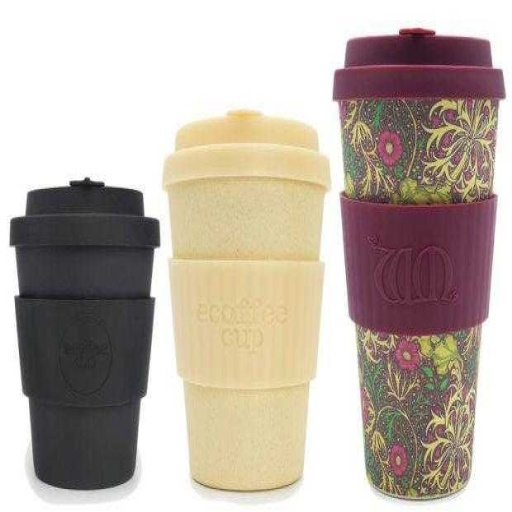cup: (331, 27, 506, 500), (161, 109, 330, 491), (9, 178, 159, 492)
